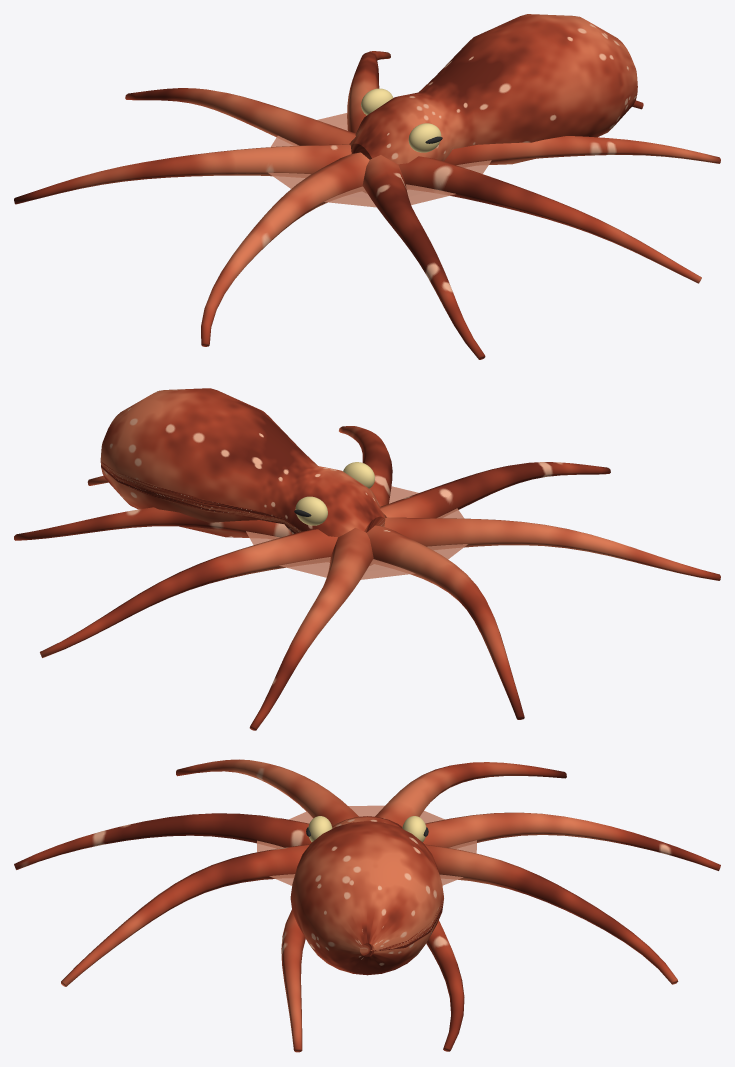
File: octopus.glb
3 views of the same model, one above another, from view 1: azimuth 30°, elevation 25°; view 2: azimuth 150°, elevation 25°; view 3: azimuth 270°, elevation 25° (orthographic).
Visible parts, largest first — view 1: Arms, Mantle and head, Web, Eye, Eye.001; view 2: Arms, Mantle and head, Web, Eye.001; view 3: Arms, Mantle and head, Web.
Part boxes in pixels (x1,y1,x2,y2): Arms: (14, 51, 720, 359); Mantle and head: (350, 14, 637, 164); Web: (268, 113, 491, 207); Eye: (408, 123, 441, 152); Eye.001: (361, 88, 393, 115); Arms: (14, 426, 720, 730); Mantle and head: (100, 388, 385, 537); Web: (246, 486, 467, 579); Eye.001: (295, 496, 327, 525); Arms: (14, 759, 720, 1052); Mantle and head: (290, 816, 443, 975); Web: (257, 805, 476, 885).
Size of what is drawn, in the model's own units: 2.67 by 0.6693 by 2.85.
Materials: 4 (1 with a texture image).
